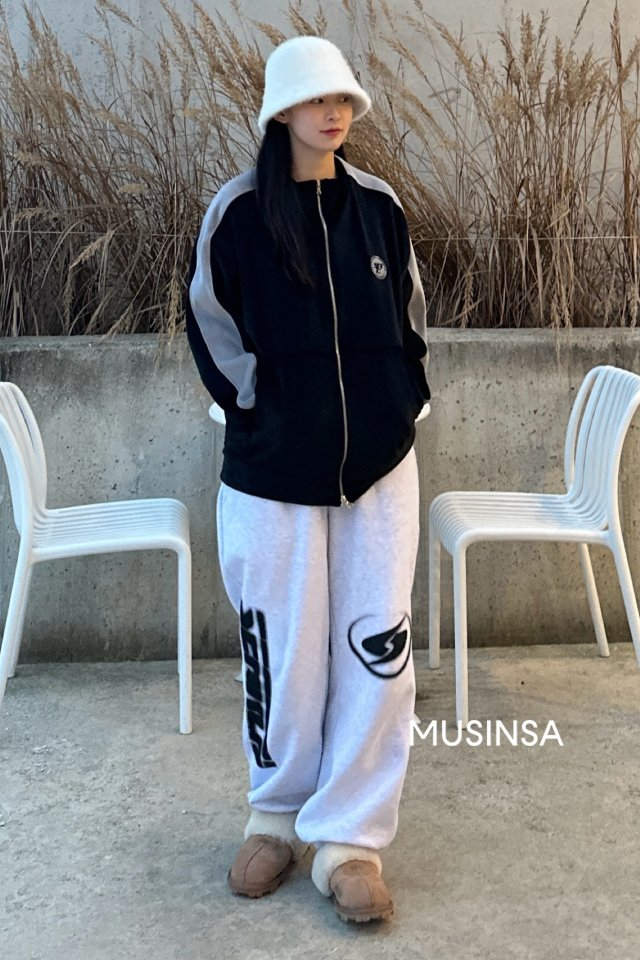Boots: (215, 805, 399, 939)
Buckethat: (248, 27, 377, 125)
Outer: (169, 153, 450, 506)
Training pants: (209, 470, 424, 851)
